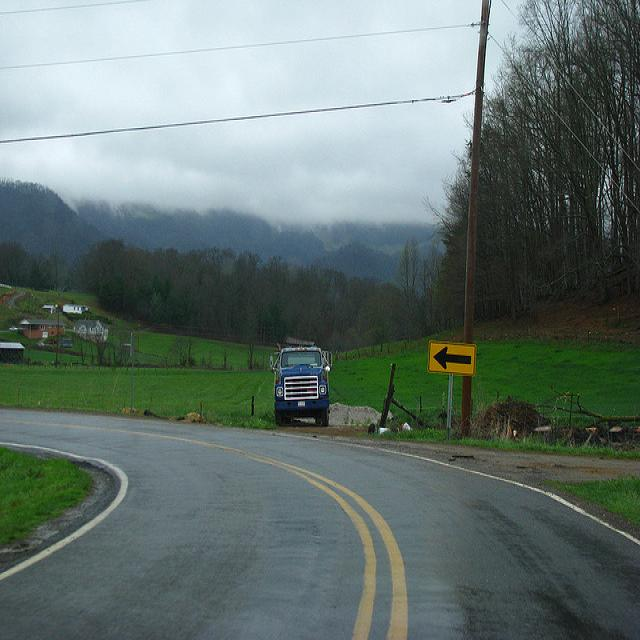Vehicle: (274, 351, 330, 425), (48, 338, 57, 344)
